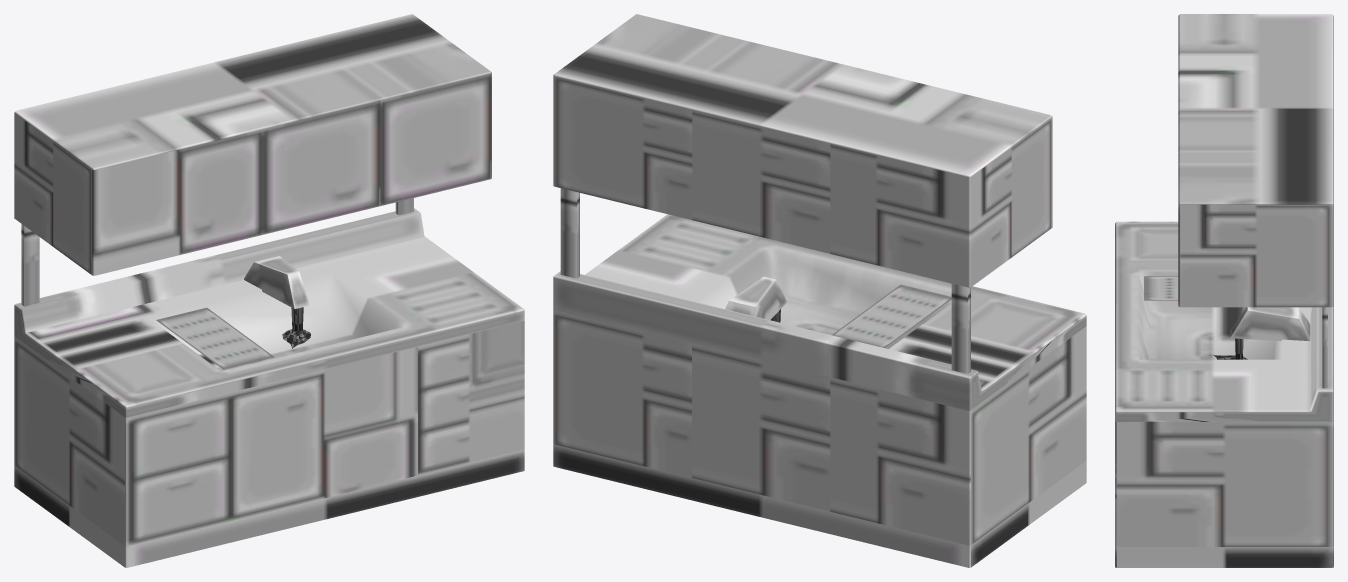
File: int_oth_sys_kA.dae
3 renders of one model, left to right at view 1: azimuth 30°, elevation 25°; view 2: azimuth 150°, elevation 25°; view 3: azimuth 270°, elevation 25°, orthographic. The views are drawn at different scales.
Visible parts, largest first — view 1: int_oth_sys_kA; view 2: int_oth_sys_kA; view 3: int_oth_sys_kA.
Part boxes in pixels (x1=…): int_oth_sys_kA: x1=14, y1=14, x2=524, y2=567; int_oth_sys_kA: x1=553, y1=14, x2=1086, y2=567; int_oth_sys_kA: x1=1115, y1=14, x2=1333, y2=567.
Bounding box in the file's own units: 62.4 × 56 × 30.4.
Materials: 2 (2 with a texture image).
